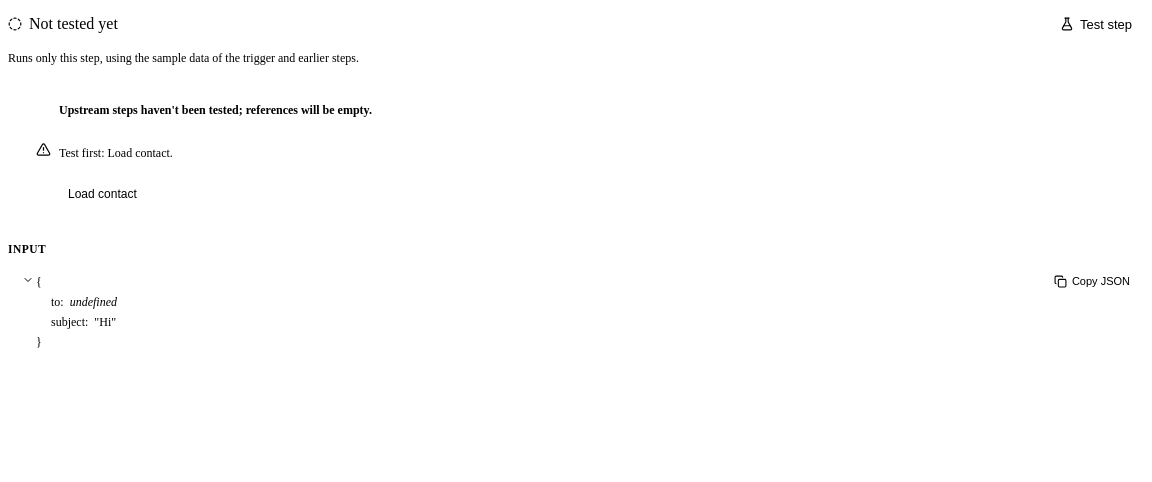
it: TestStep › a failing step shows its error and keeps no sample
Click the button "Test step" at (1096, 24), box [1048,8,1144,40]
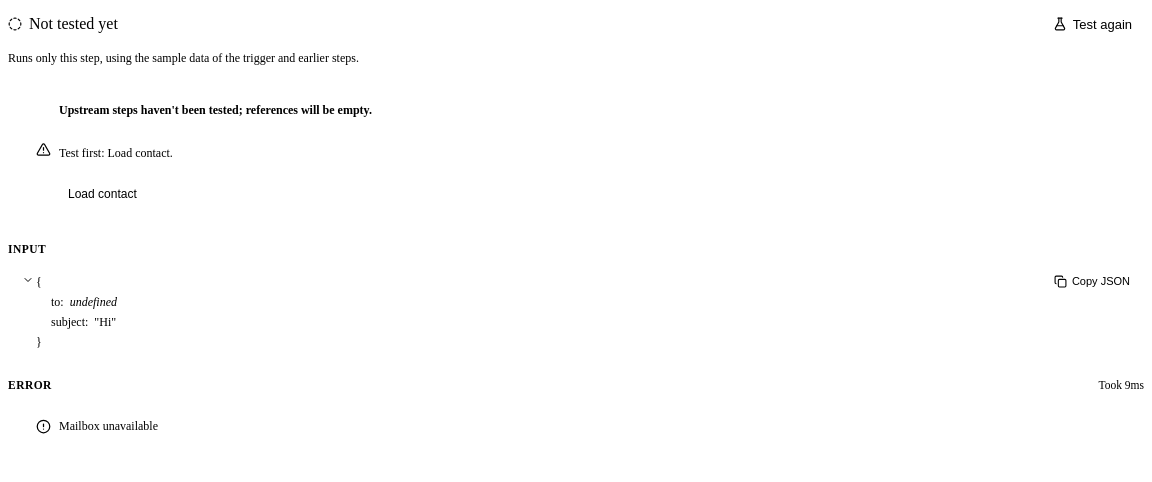
Result: the message reads "Mailbox unavailable" at [59,419,158,433]
Result: the element "Error" is shown at [8,379,1144,466]
